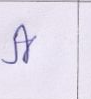i_matra: (15, 25, 33, 62)
